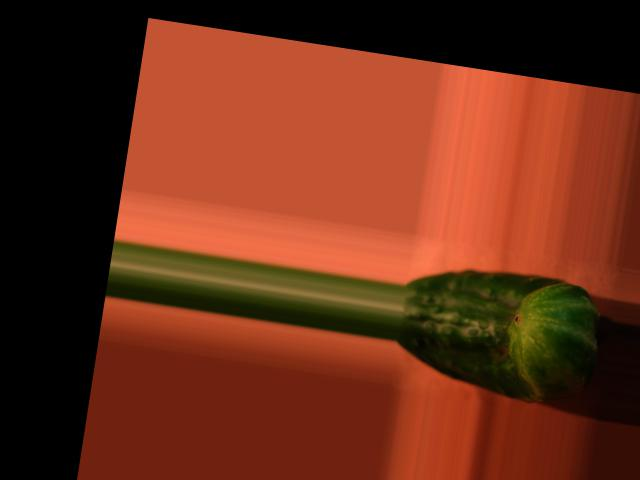cucumber: (390, 255, 606, 410)
